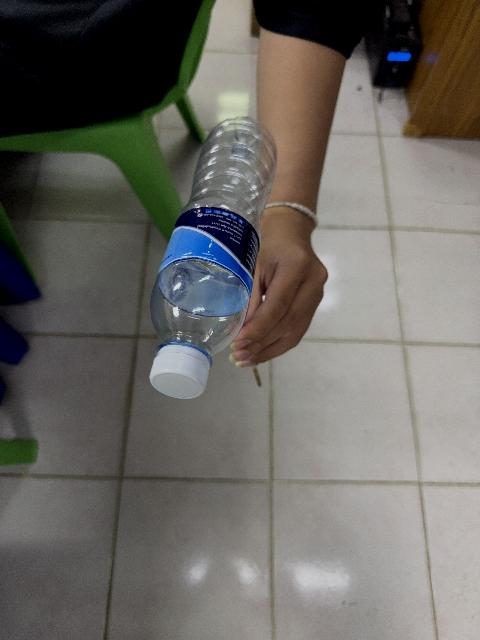bottle: (149, 118, 275, 398)
